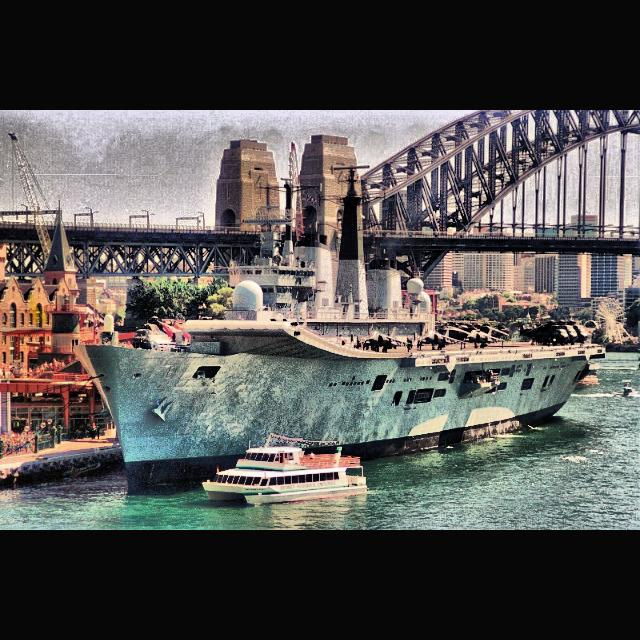combat_vessel: (72, 162, 606, 494)
